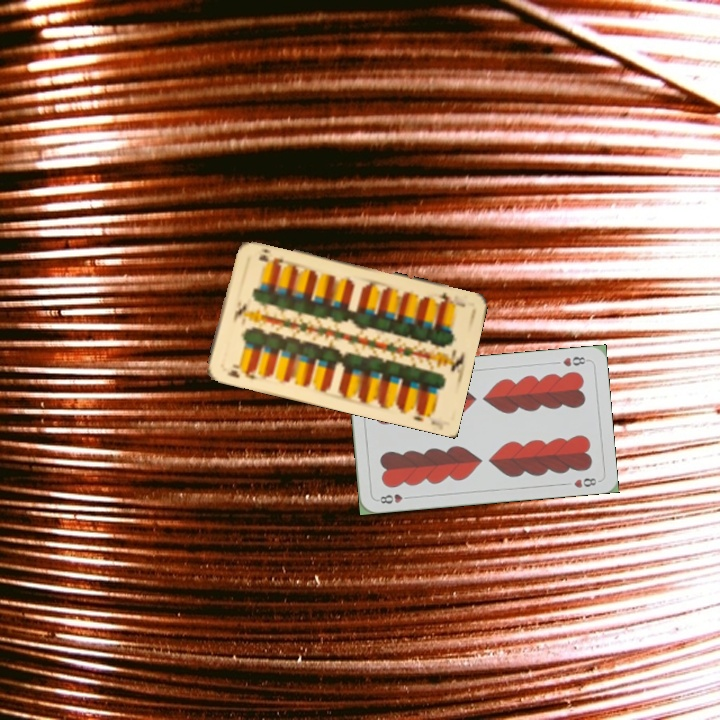E10: (430, 288, 468, 309), (223, 361, 260, 382)
H8: (373, 490, 414, 507), (559, 353, 591, 369)
